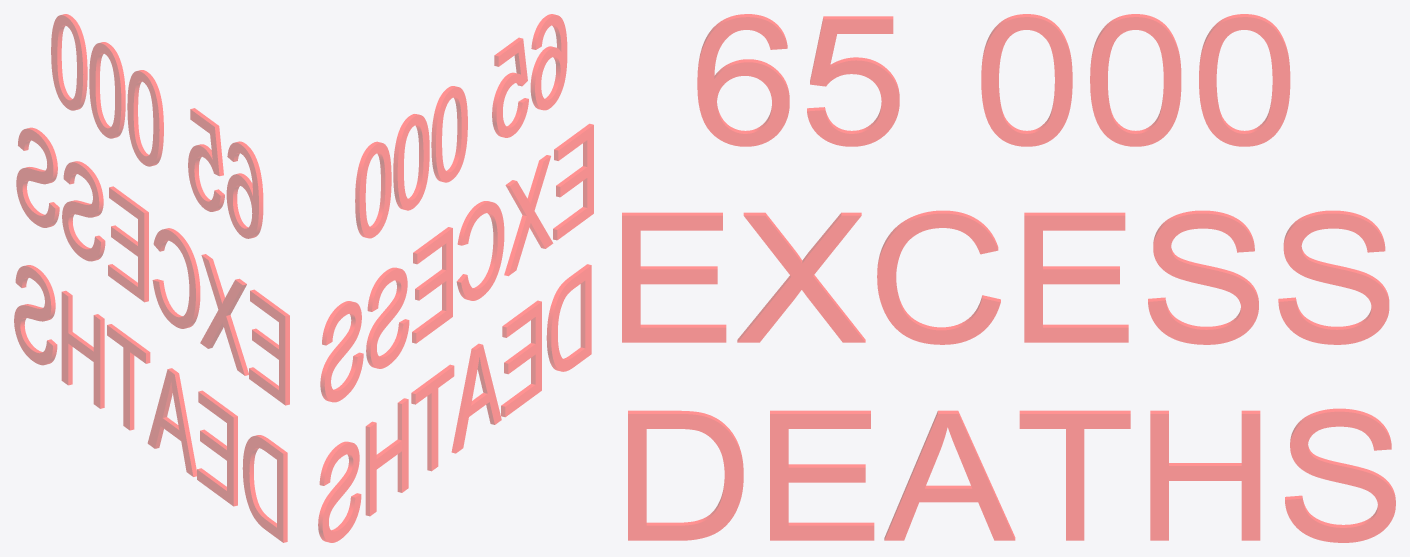
The model's file is asset.gltf.
The picture shows the model from 3 angles, left to right: view 1: azimuth 30°, elevation 25°; view 2: azimuth 150°, elevation 25°; view 3: azimuth 270°, elevation 25°; orthographic projection. The views are drawn at different scales.
Visible parts, largest first — view 1: Box002; view 2: Box002; view 3: Box002.
Part boxes in pixels (bbox=[...]): Box002: bbox=[14, 14, 289, 542]; Box002: bbox=[318, 14, 593, 542]; Box002: bbox=[622, 14, 1395, 542].
Size of the model in its own units: 100 by 7965 by 10621.
